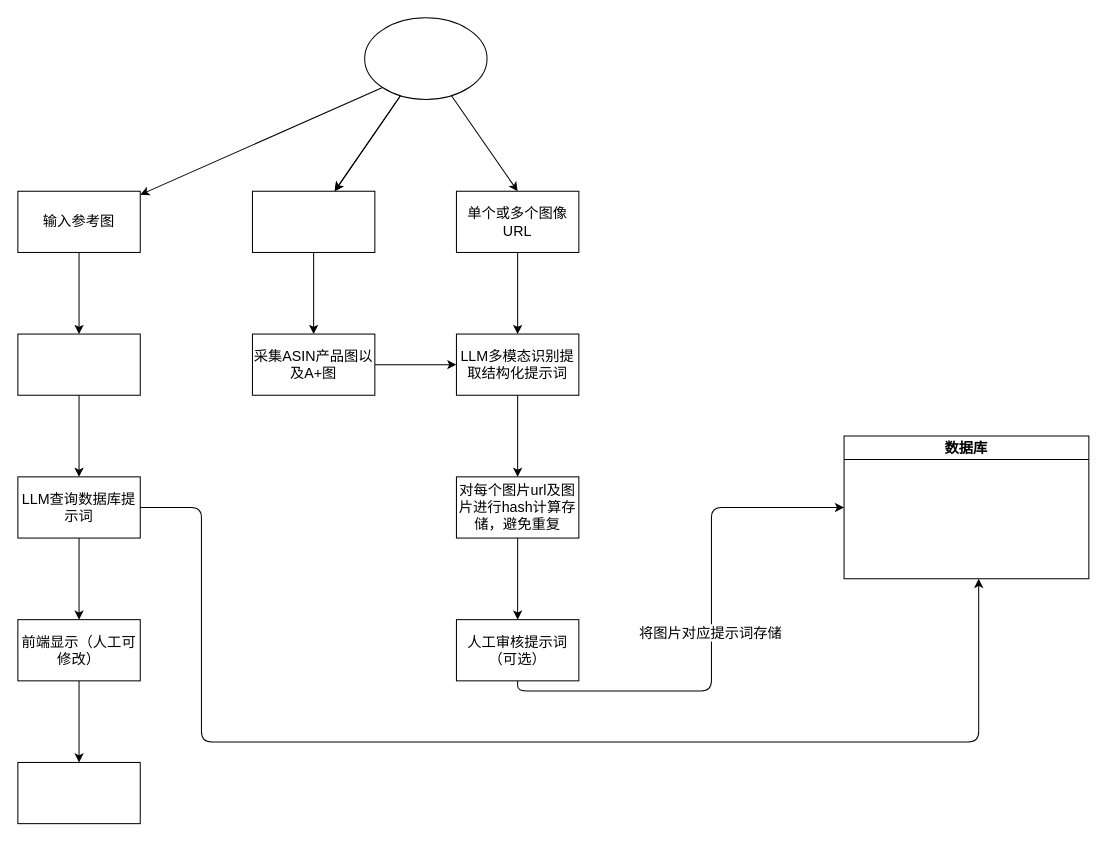
The diagram is 1107 pixels wide and 842 high, and some of its shapes have lost their labels. Each missing label, with the box of its shape:
单个或多个ASIN: (251, 190, 375, 252)
图生图: (17, 761, 140, 824)
开始: (364, 17, 487, 99)
选择创作对象（主图、副图、A+图）: (17, 333, 140, 395)
